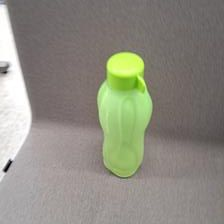bottle: (95, 48, 153, 178)
